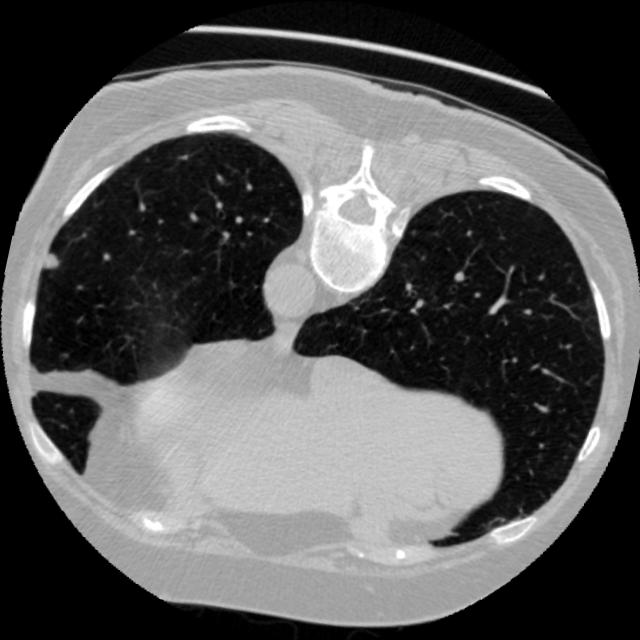nodule: (33, 244, 69, 280)
